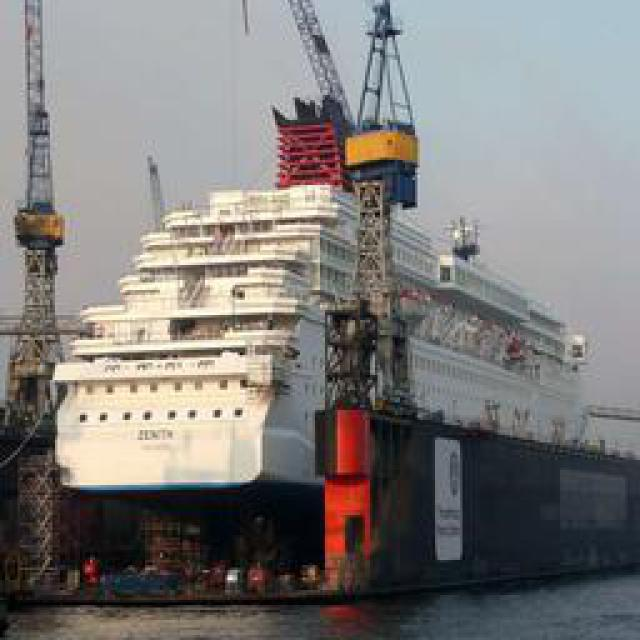Ship: (56, 96, 615, 550)
